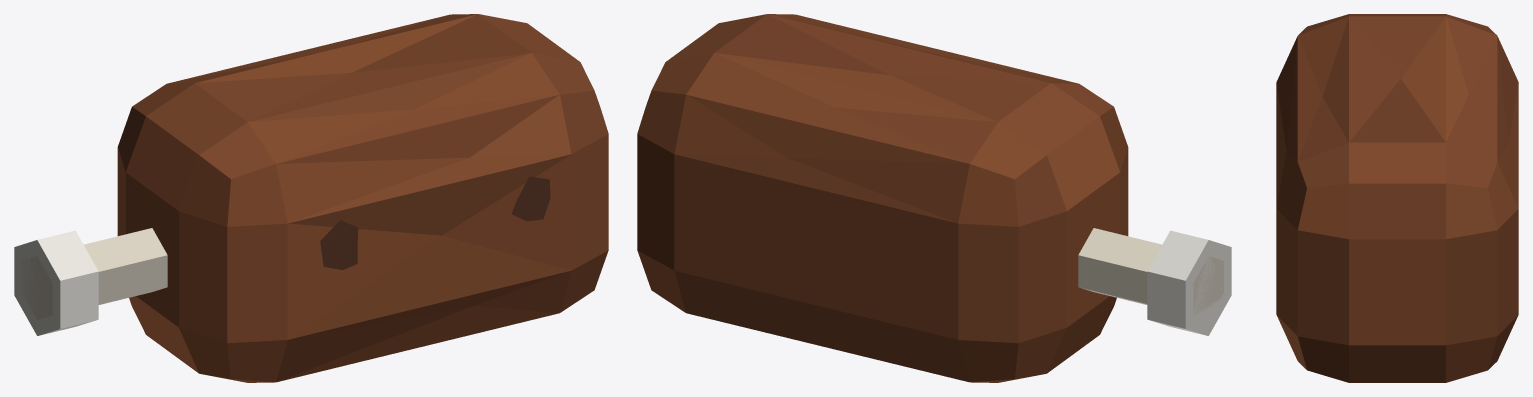
The model's file is meat_cooked_zharenoe_idle.glb.
3 renders of one model, left to right at view 1: azimuth 30°, elevation 25°; view 2: azimuth 150°, elevation 25°; view 3: azimuth 270°, elevation 25°, orthographic. The views are drawn at different scales.
Parts seen in each view (by area): view 1: meat_cooked_zharenoe_idle; view 2: meat_cooked_zharenoe_idle; view 3: meat_cooked_zharenoe_idle.
Part boxes in pixels (left/top/right/bottom): meat_cooked_zharenoe_idle: left=14, top=14, right=608, bottom=382; meat_cooked_zharenoe_idle: left=637, top=14, right=1231, bottom=382; meat_cooked_zharenoe_idle: left=1276, top=14, right=1518, bottom=382.
Size of the model in its own units: 0.14 by 0.065 by 0.064.
Materials: 1 (1 with a texture image).
